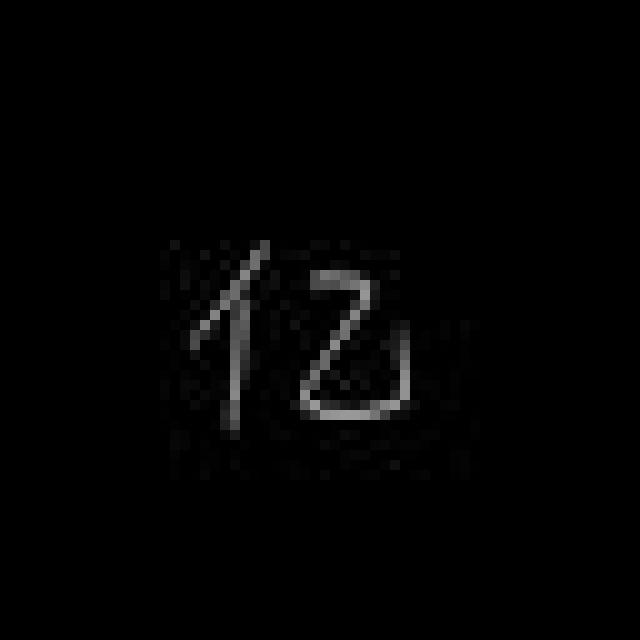100000 -a hundred thousand-: (176, 231, 422, 436)
